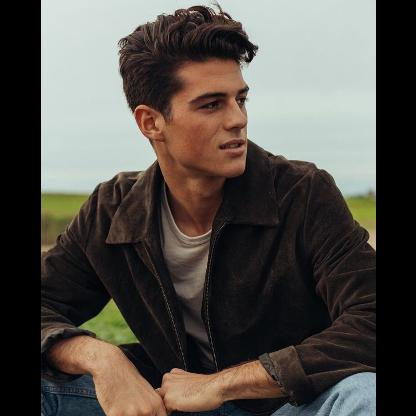Male: (134, 57, 248, 175)
